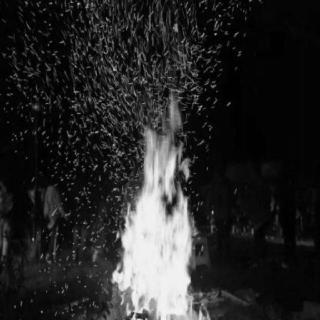Fire: (102, 82, 206, 316)
